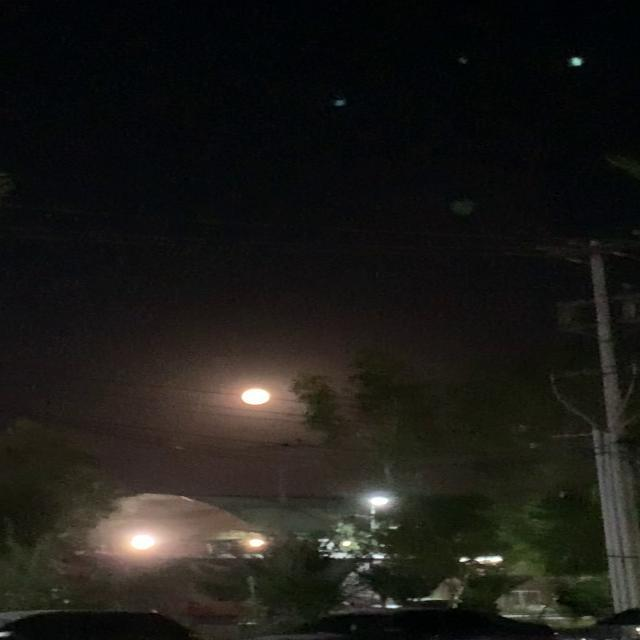moon: (229, 378, 282, 404)
